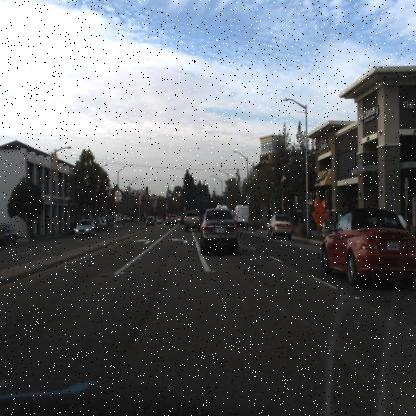car: (320, 206, 415, 284), (200, 205, 240, 257), (266, 213, 292, 242), (72, 216, 98, 238), (233, 202, 252, 232), (74, 216, 96, 239), (183, 210, 202, 234), (0, 224, 19, 246), (396, 213, 411, 240), (142, 212, 156, 231), (165, 213, 176, 227)
truck: (232, 204, 249, 230)
